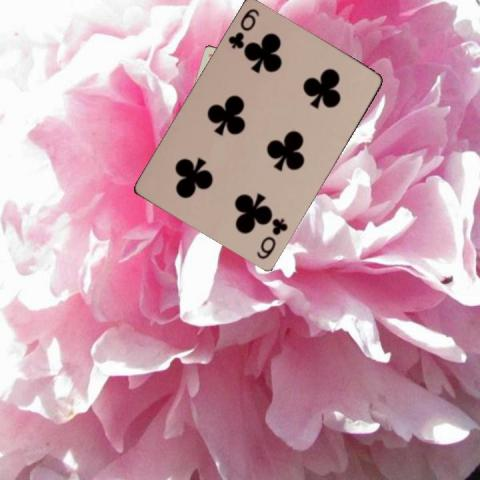6c: (254, 216, 290, 262), (225, 5, 261, 51)
